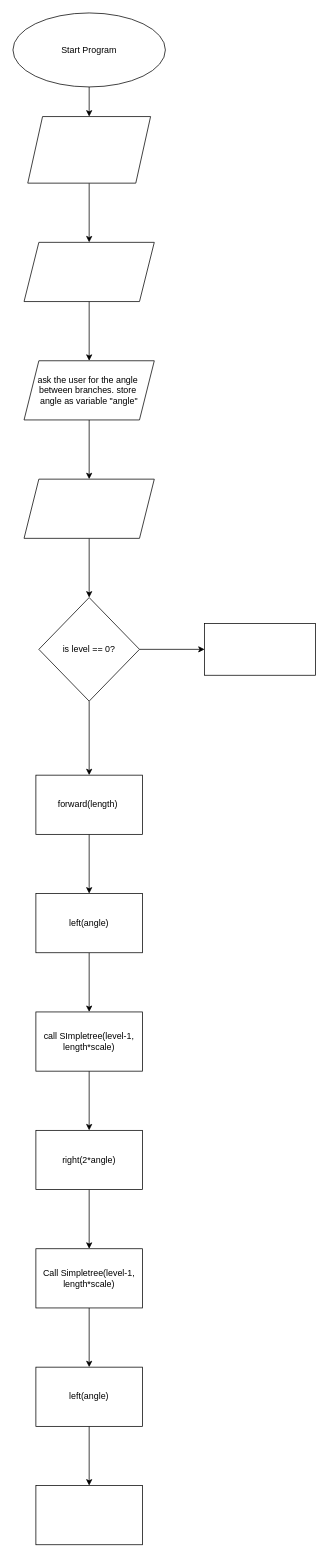
Some shapes in this 329 by 1558 pixel diagram are drawn without their labels. Here are the shapes that lost their labels. From the top down, the centre of each, then its label:
point (89, 149): ask the user for the level of the tree store variable as "level"
point (88, 272): ask user for the length of the branches. store length as variable "length"
point (88, 508): ask users for the scale of the branches store scale as variable "scale"
point (260, 649): return
point (88, 1515): backwards(length)
